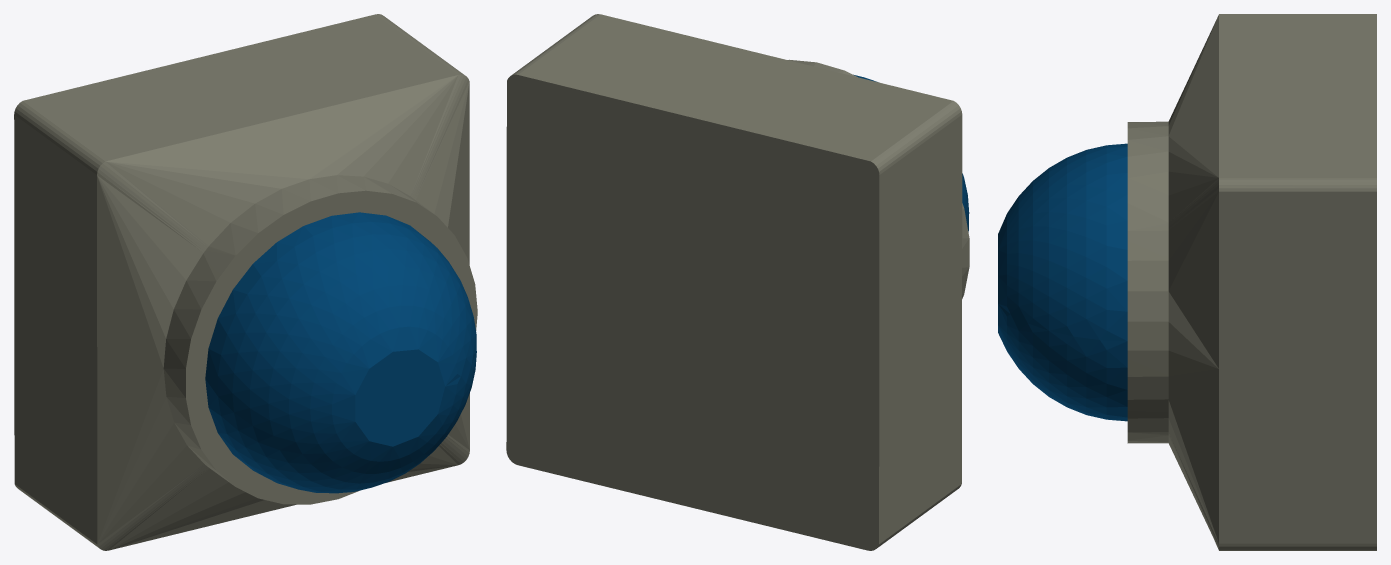
Rendered from livox_mid360.obj.
The picture shows the model from 3 angles, left to right: view 1: azimuth 30°, elevation 25°; view 2: azimuth 150°, elevation 25°; view 3: azimuth 270°, elevation 25°; orthographic projection. The views are drawn at different scales.
Visible parts, largest first — view 1: livox_mid360_body_meshed, livox_mid360_dome_meshed; view 2: livox_mid360_body_meshed; view 3: livox_mid360_body_meshed, livox_mid360_dome_meshed.
Part boxes in pixels (box(x1,y1,x2,y2)): livox_mid360_body_meshed: box(14, 14, 477, 550); livox_mid360_dome_meshed: box(205, 212, 476, 493); livox_mid360_body_meshed: box(506, 14, 969, 550); livox_mid360_body_meshed: box(1127, 14, 1376, 550); livox_mid360_dome_meshed: box(998, 143, 1127, 421).
Bounding box in the file's own units: 0.065 × 0.065 × 0.06.
